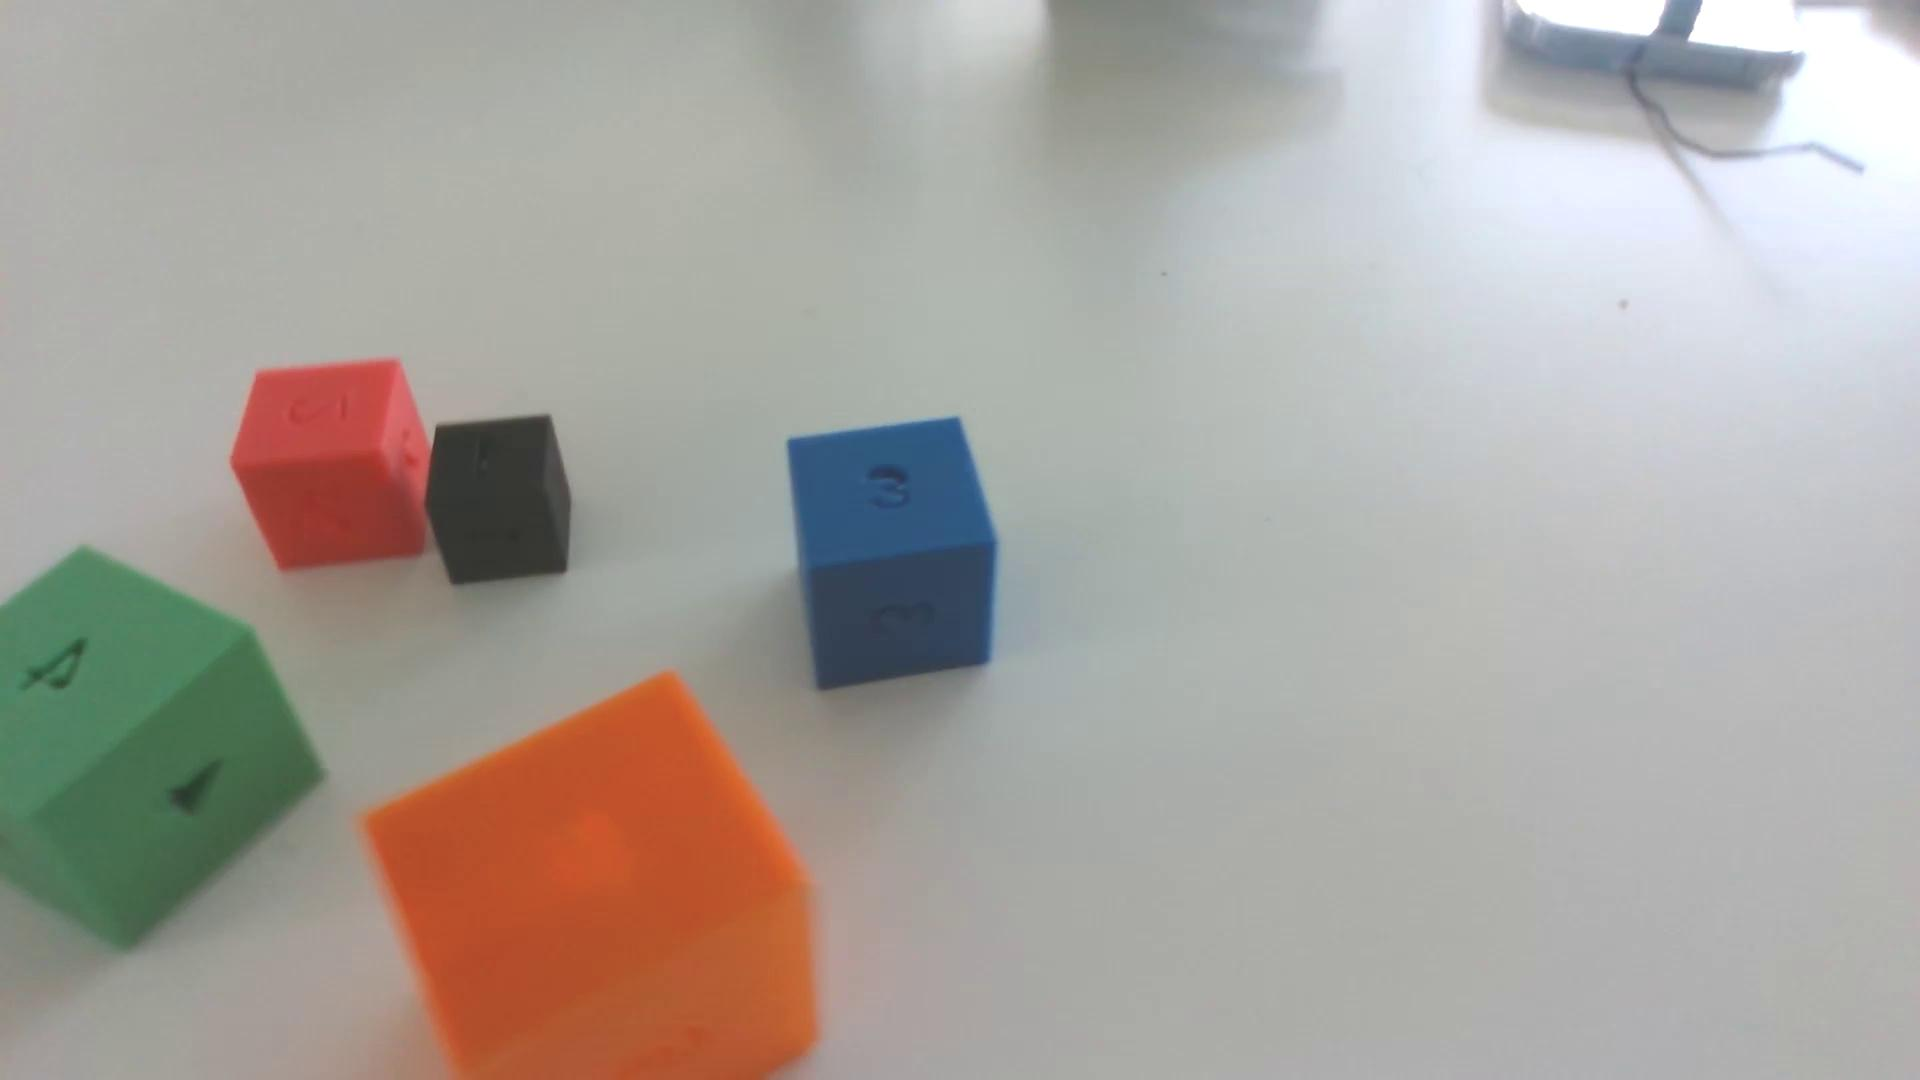black: (426, 415, 572, 585)
blue: (787, 418, 998, 690)
green: (0, 549, 323, 949)
orange: (364, 674, 819, 1080)
red: (231, 360, 430, 572)
